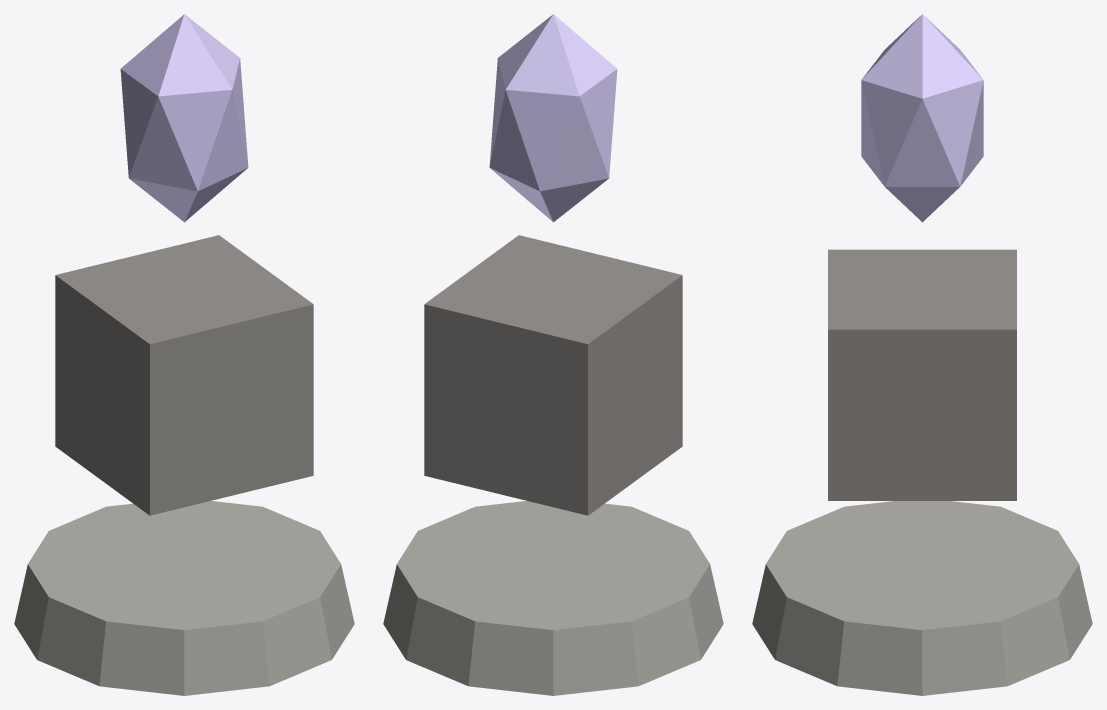
File: beacon.glb
3 renders of one model, left to right at view 1: azimuth 30°, elevation 25°; view 2: azimuth 150°, elevation 25°; view 3: azimuth 270°, elevation 25°, orthographic.
Visible parts, largest first — view 1: beacon; view 2: beacon; view 3: beacon.
Part boxes in pixels (<box>): beacon: <box>14,14,354,695</box>; beacon: <box>383,14,723,695</box>; beacon: <box>752,14,1092,695</box>.
Size of the model in its own units: 1.8 by 3.56 by 1.8.
